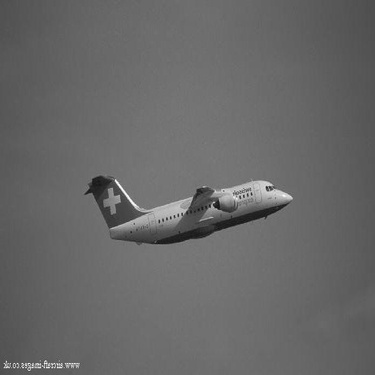airplane: (72, 158, 303, 254)
